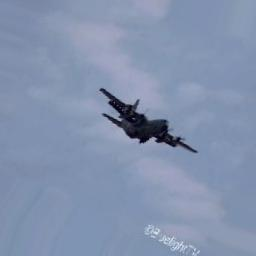Airplane: (97, 86, 200, 157)
